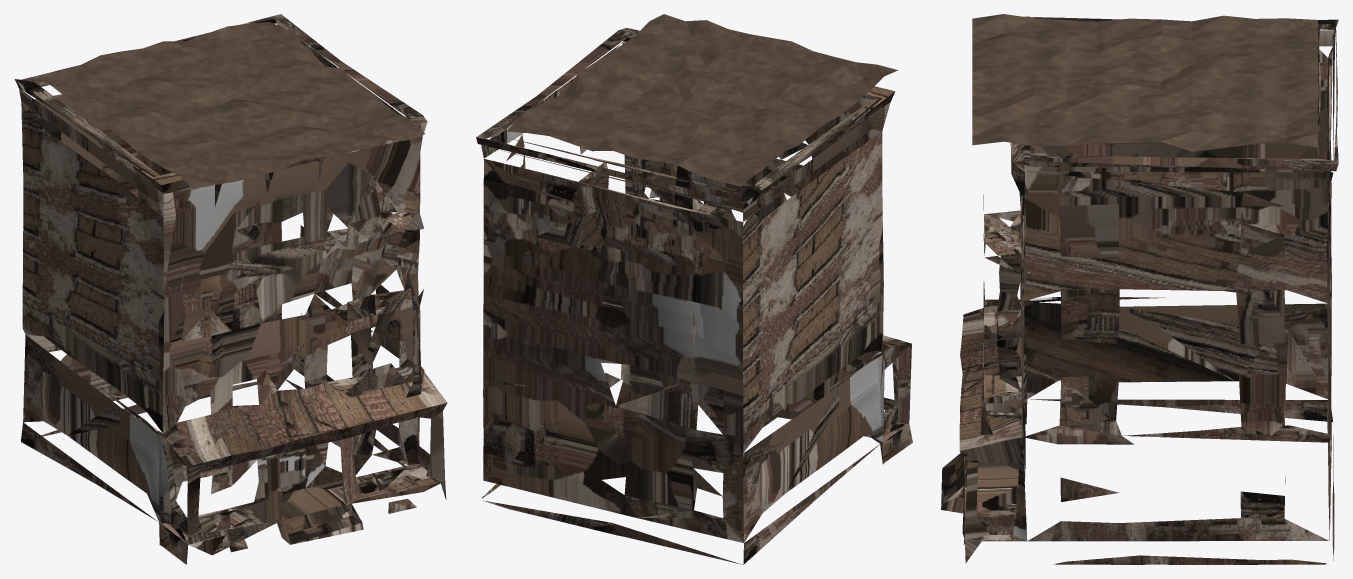
File: ruin_boarded.glb
3 renders of one model, left to right at view 1: azimuth 30°, elevation 25°; view 2: azimuth 150°, elevation 25°; view 3: azimuth 270°, elevation 25°, orthographic. The views are drawn at different scales.
Size of the model in its own units: 1.52 by 2.03 by 1.76.
Materials: 1 (1 with a texture image).
